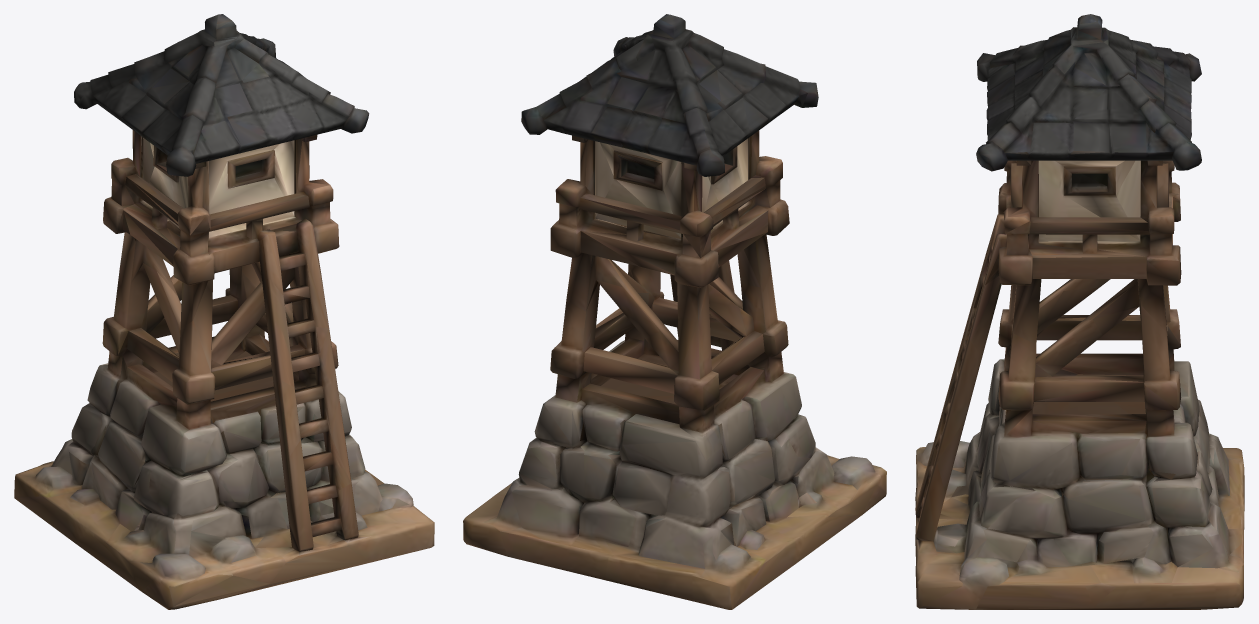
Rendered from tower.glb.
3 views of the same model, side by side, from view 1: azimuth 30°, elevation 25°; view 2: azimuth 150°, elevation 25°; view 3: azimuth 270°, elevation 25° (orthographic). The views are drawn at different scales.
Parts seen in each view (by area): view 1: tripo_node_e7d0b77b-9e44-4b88-9489-f19345026cbf; view 2: tripo_node_e7d0b77b-9e44-4b88-9489-f19345026cbf; view 3: tripo_node_e7d0b77b-9e44-4b88-9489-f19345026cbf.
Part boxes in pixels (x1,y1,x2,y2): tripo_node_e7d0b77b-9e44-4b88-9489-f19345026cbf: (14,14,434,609); tripo_node_e7d0b77b-9e44-4b88-9489-f19345026cbf: (463,14,886,609); tripo_node_e7d0b77b-9e44-4b88-9489-f19345026cbf: (915,14,1244,609).
Bounding box in the file's own units: 0.5514 × 0.9792 × 0.5551.
1 material, 1 textured.
